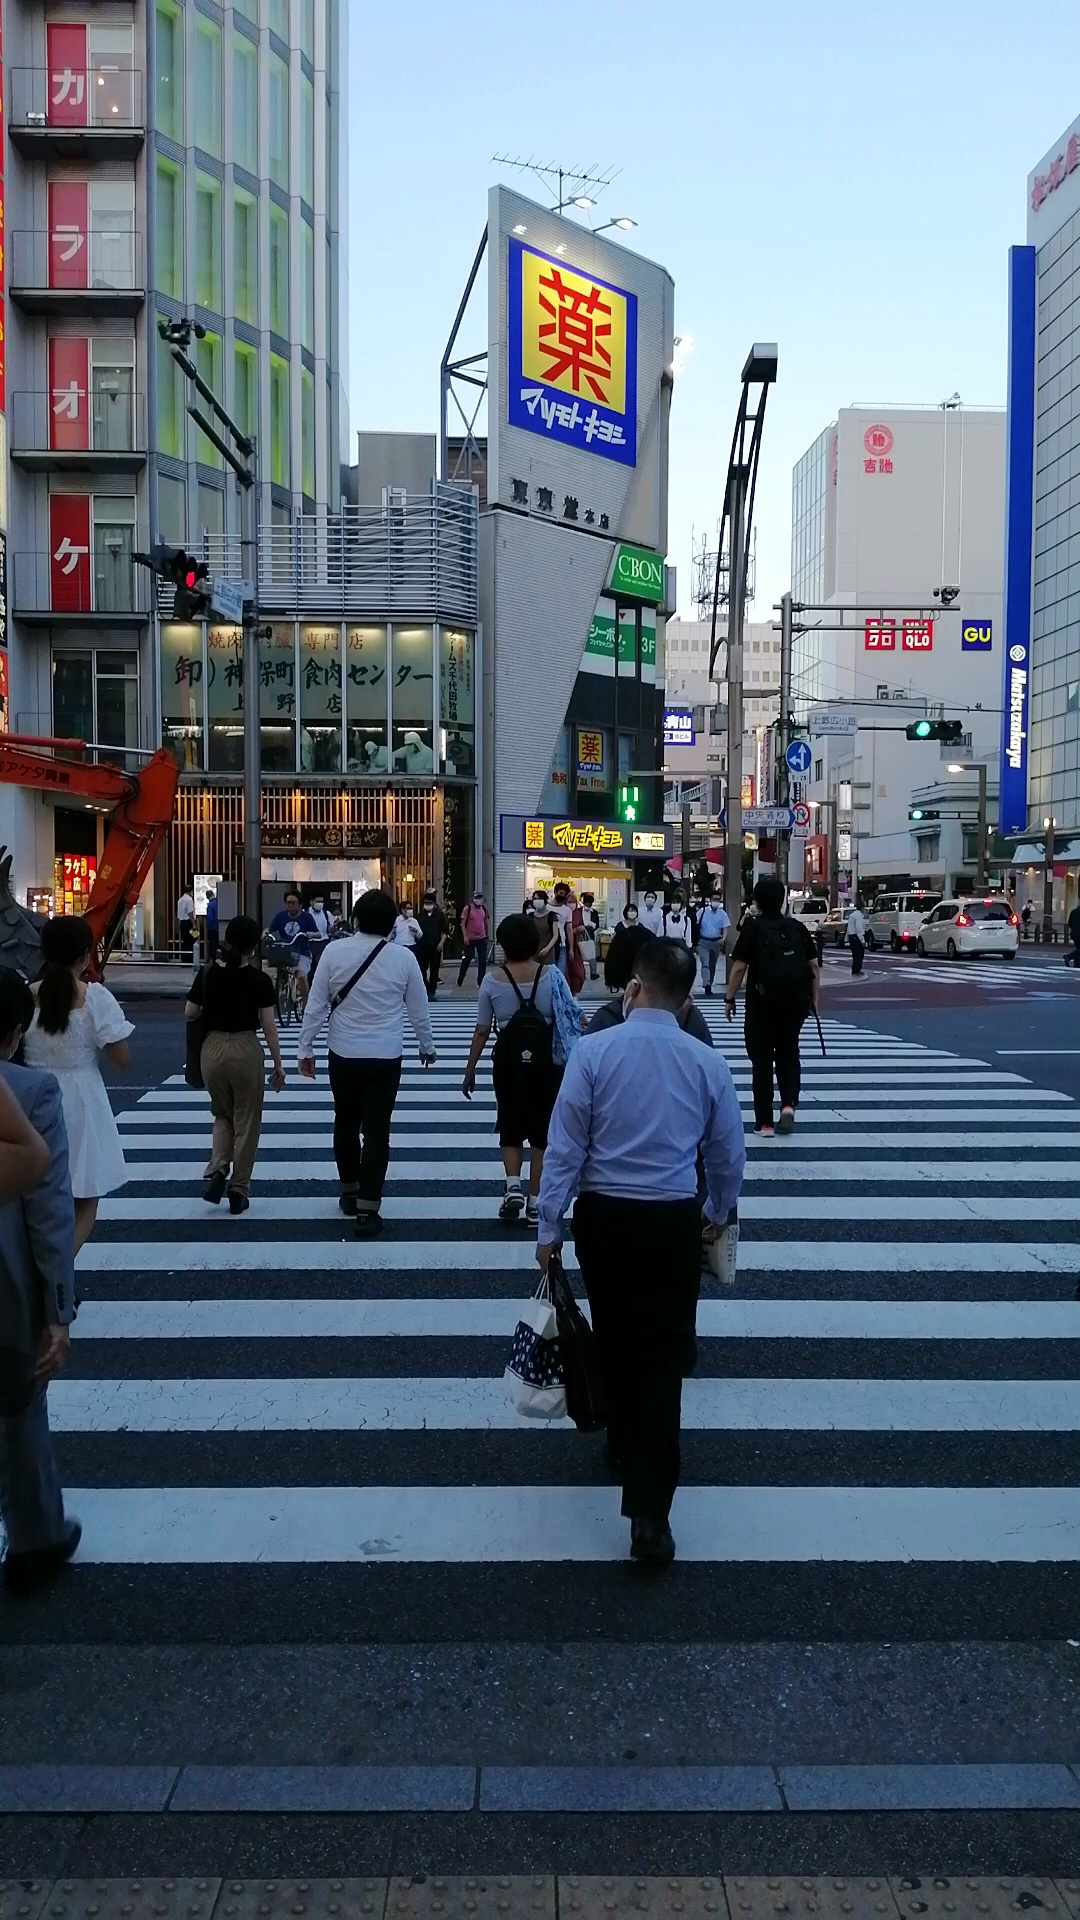green: (616, 781, 641, 825)
